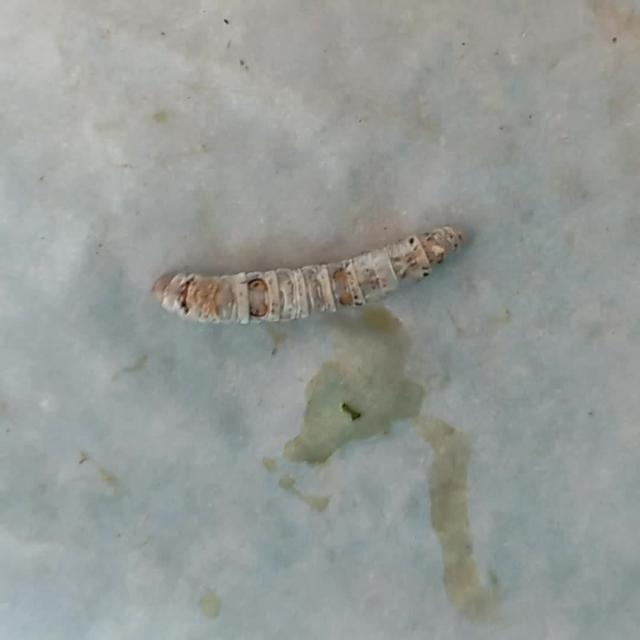Grasserie: (147, 212, 474, 334)
